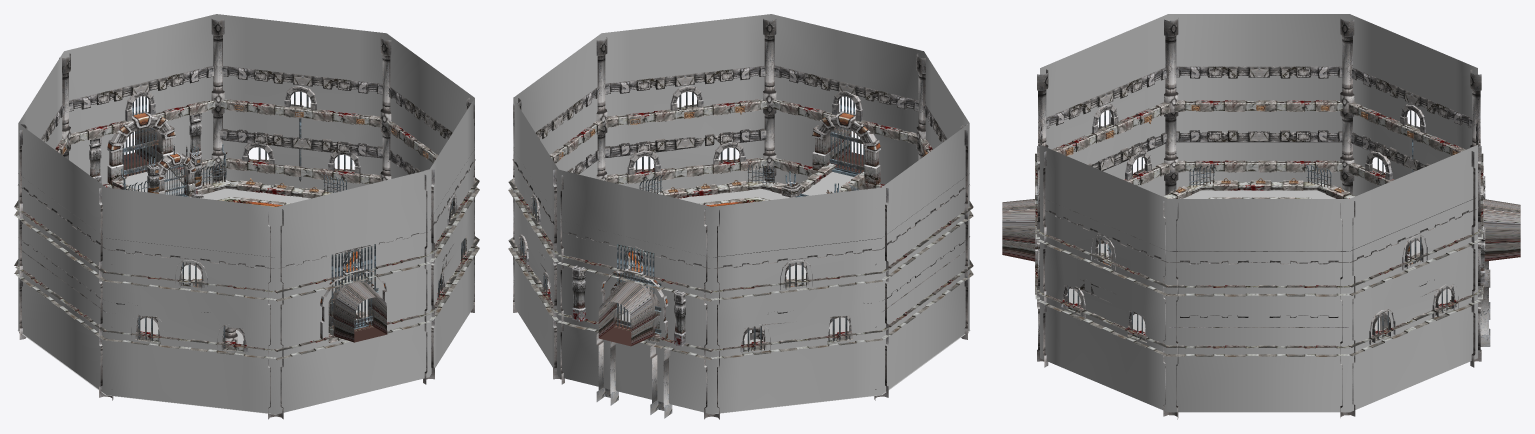
The model's file is ewrfqef.FBX.
3 renders of one model, left to right at view 1: azimuth 30°, elevation 25°; view 2: azimuth 150°, elevation 25°; view 3: azimuth 270°, elevation 25°, orthographic. The views are drawn at different scales.
Visible parts, largest first — view 1: Object340, Object303, Object341, Object009, Object338, Plane001, Object342; view 2: Object340, Object303, Object341, Object009, Plane001, Object338; view 3: Object340, Object303, Object009.
Boxes of the visible parts, box(x1,y1,x2,y2) form: Object340: box(18, 14, 474, 414); Object303: box(14, 19, 479, 419); Object341: box(122, 96, 378, 330); Object009: box(187, 188, 359, 267); Object338: box(17, 299, 367, 414); Plane001: box(120, 170, 356, 319); Object342: box(164, 164, 186, 195); Object340: box(513, 14, 969, 414); Object303: box(508, 19, 973, 419); Object341: box(615, 96, 864, 340); Object009: box(628, 189, 793, 267); Plane001: box(619, 171, 853, 322); Object338: box(547, 281, 970, 414); Object340: box(1040, 14, 1477, 412); Object303: box(1002, 18, 1520, 419); Object009: box(1183, 190, 1335, 198).
Bounding box in the file's own units: 259 × 143 × 301.
